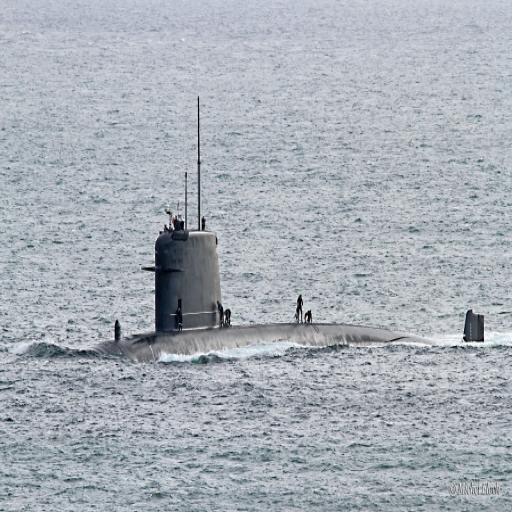submarine: (7, 117, 490, 365)
